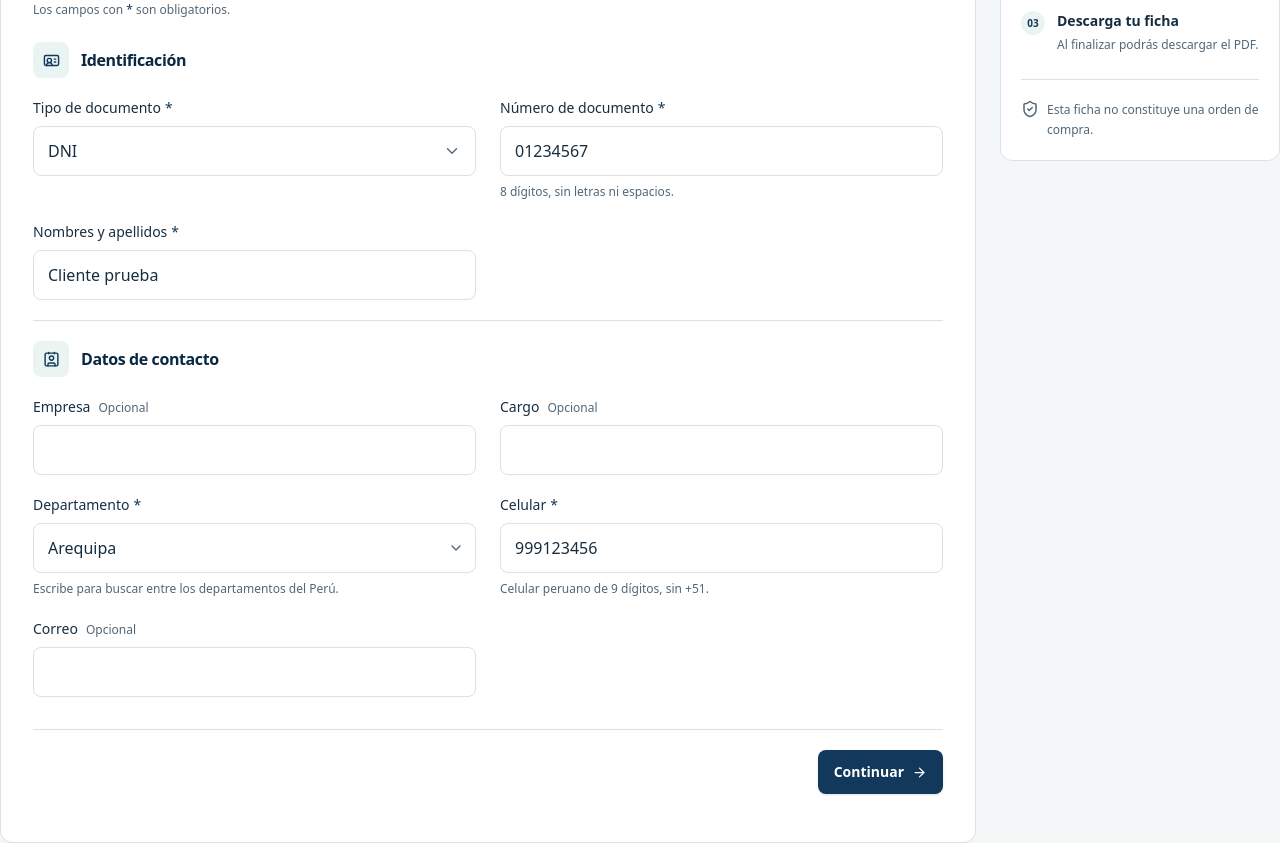
Scenario: Flujo público FRI › no ofrece retroceso en Cliente y preserva los datos al volver desde Vehículo
(page scrolled)
Expected: the button "Anterior" is not shown
Click the button "Continuar" at (880, 772), box [818,750,943,794]
(page scrolled)
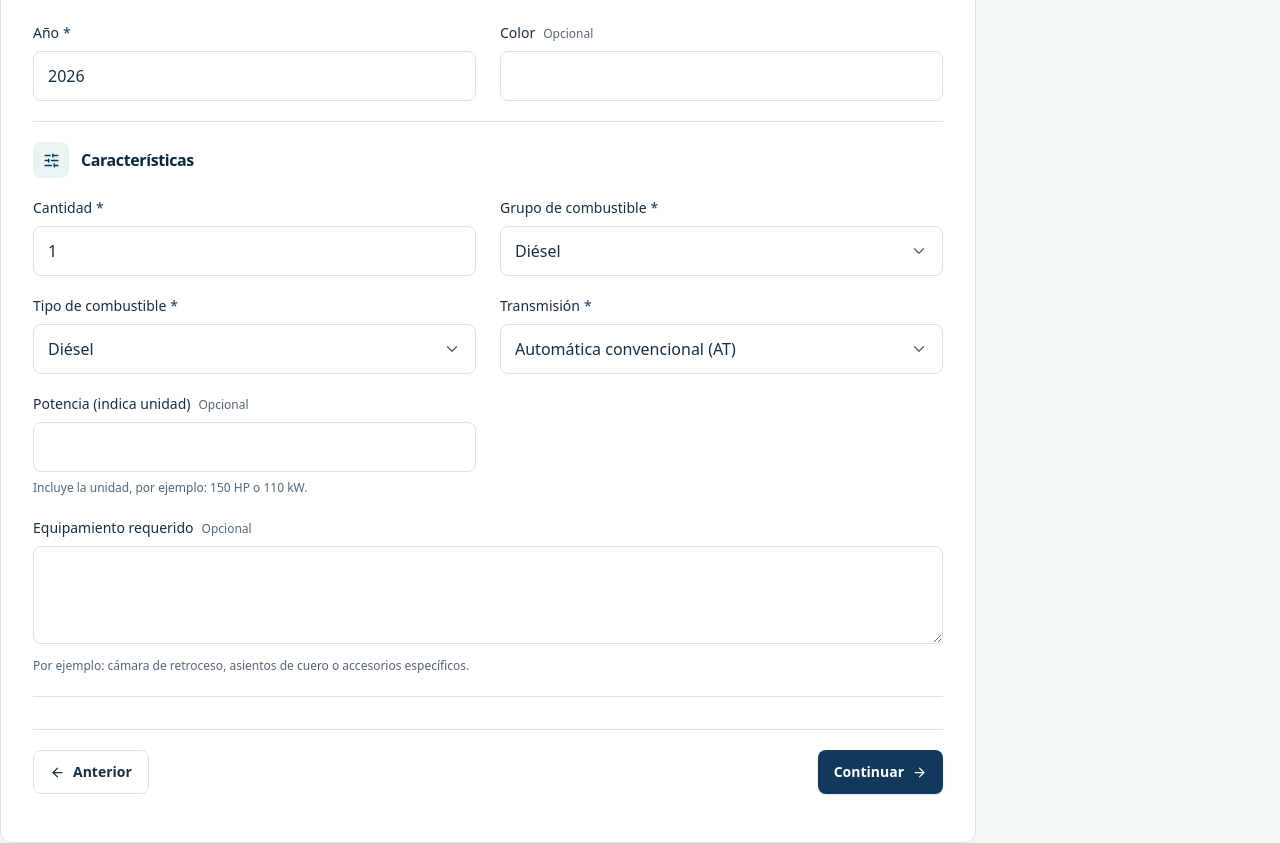
Click the button "Anterior" at (91, 772), box [33,750,149,794]
(page scrolled)
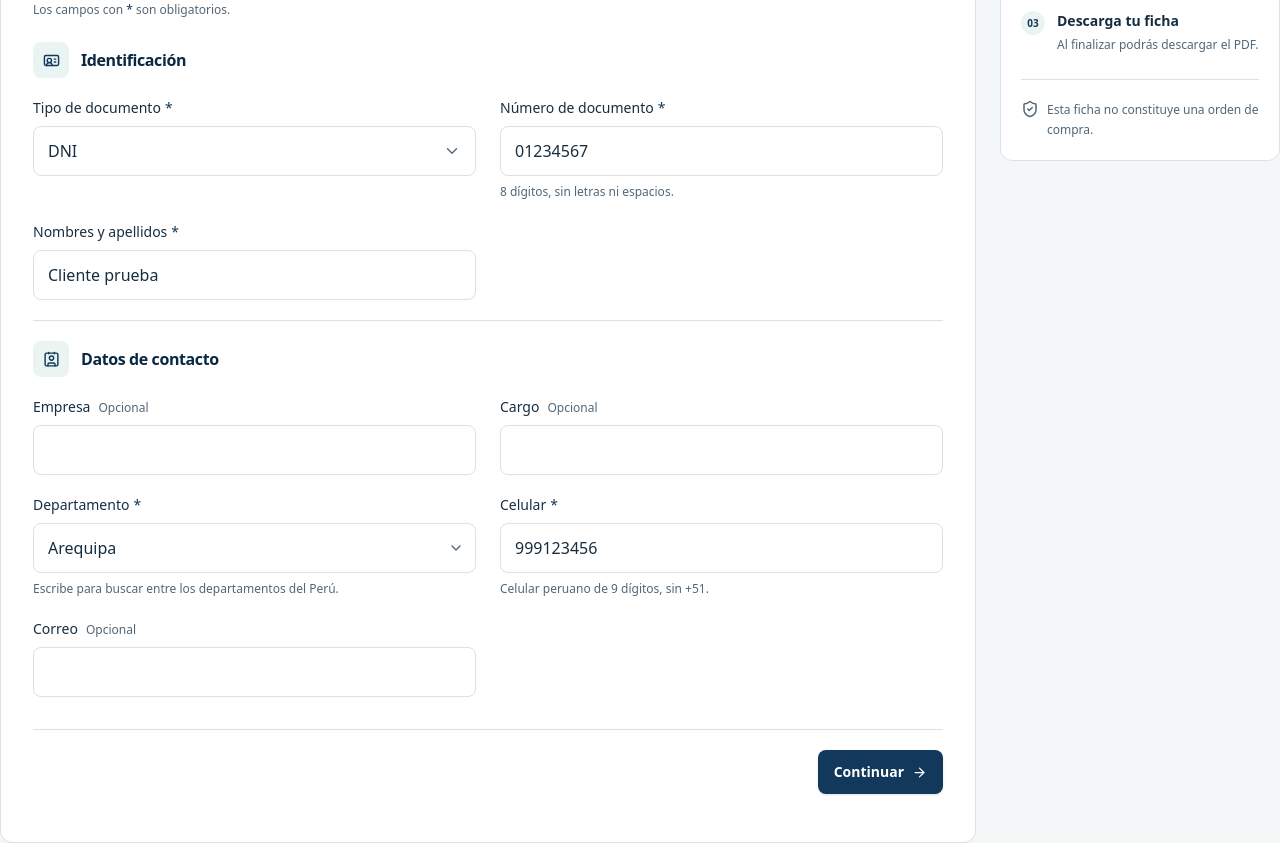
Expected: the field labelled "Número de documento*" holds "01234567", [500,126,943,176]
